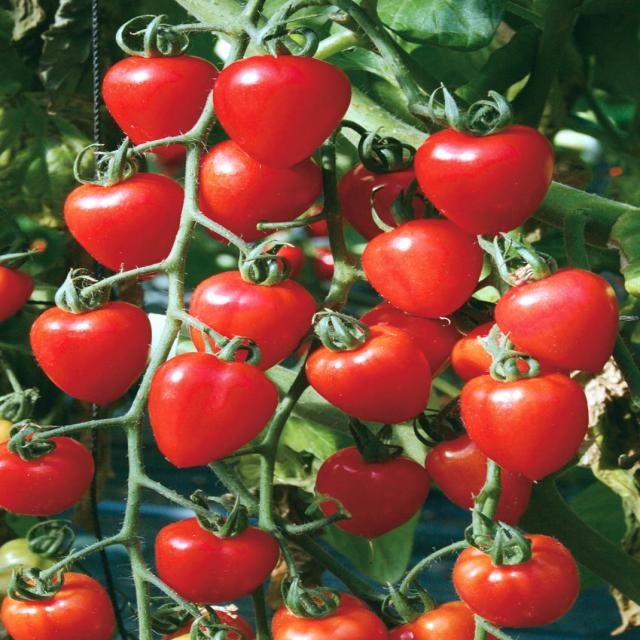tomato: (412, 110, 564, 239), (202, 41, 348, 171), (146, 340, 286, 470), (463, 350, 599, 478), (49, 168, 190, 284), (142, 491, 292, 600), (488, 262, 626, 371), (26, 289, 158, 397), (307, 320, 435, 430), (445, 526, 586, 624)
